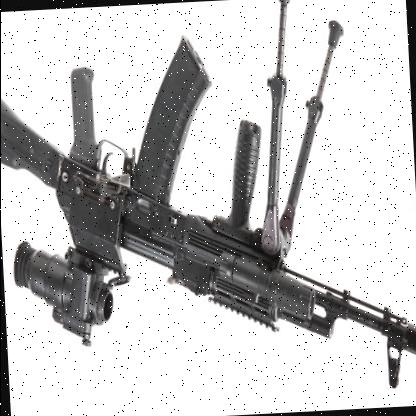rifle: (0, 31, 416, 416)
